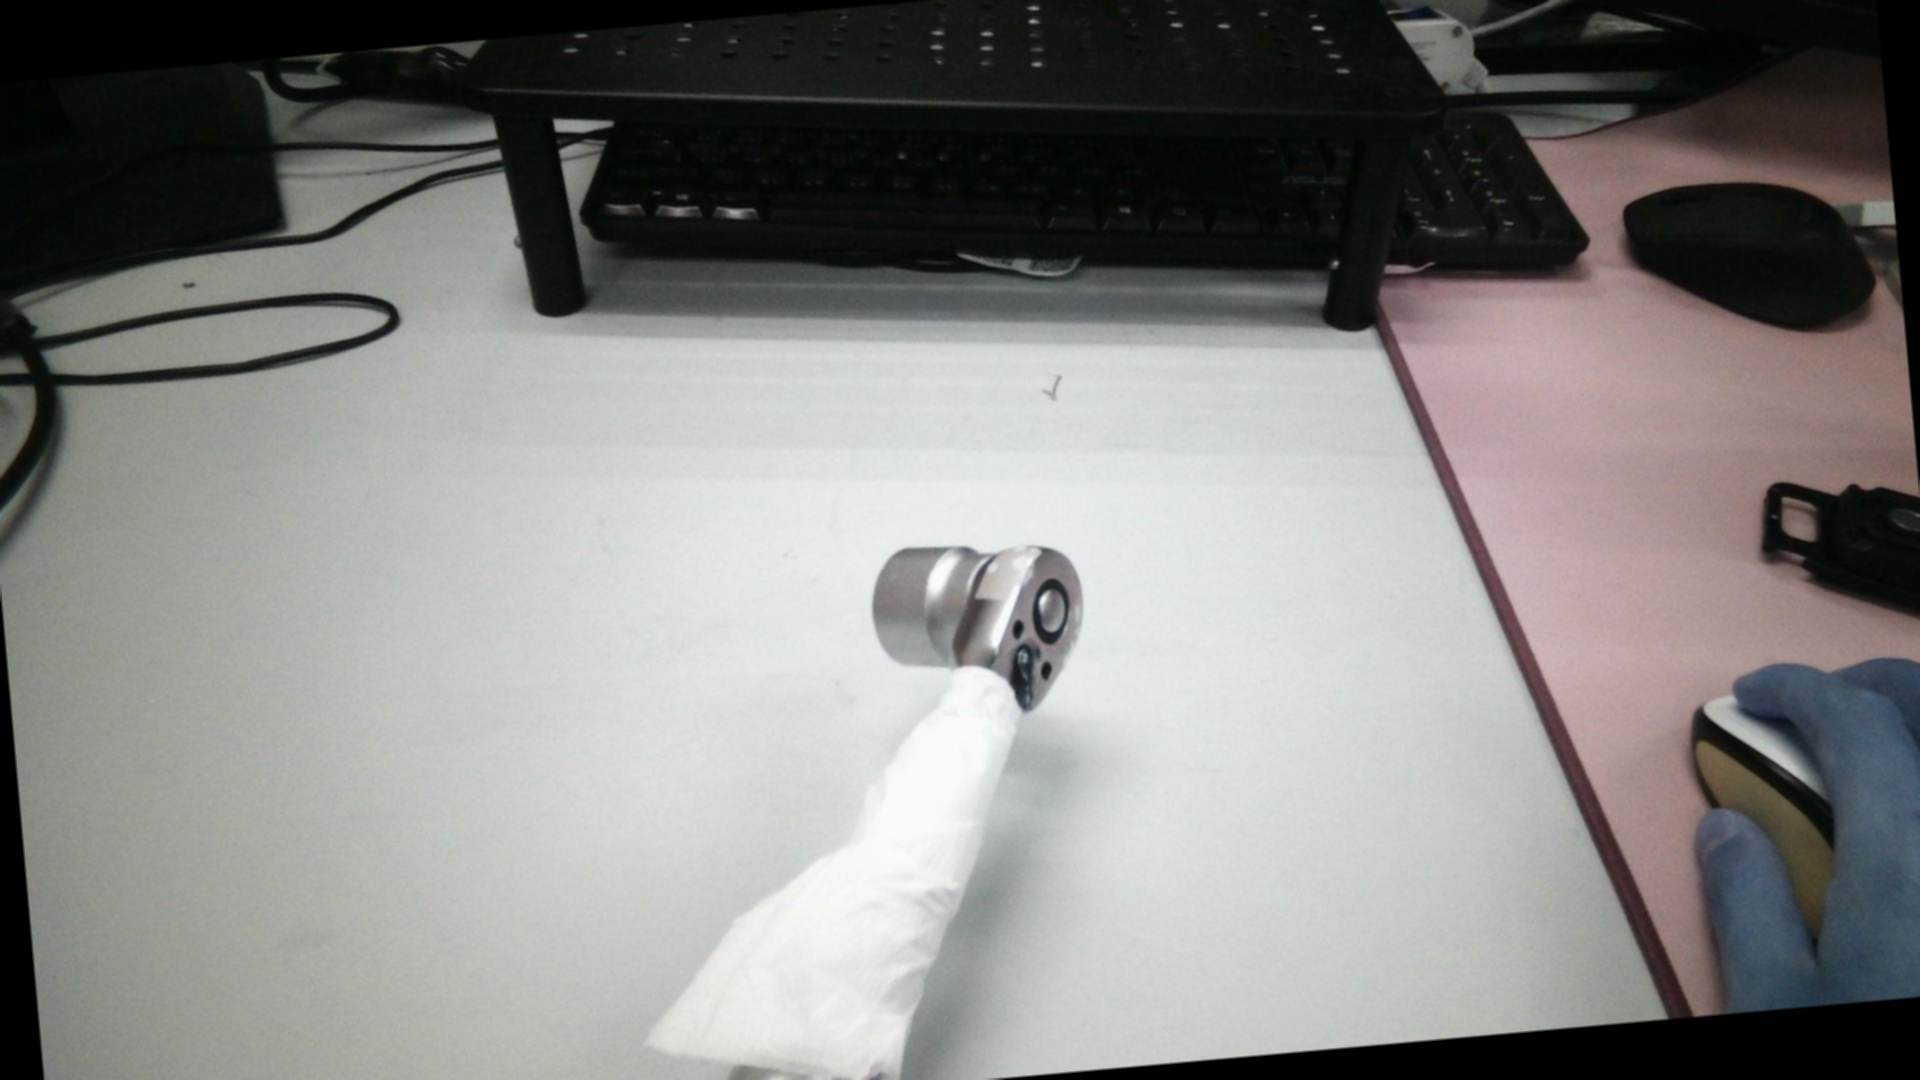wrench: (1029, 571, 1069, 642)
